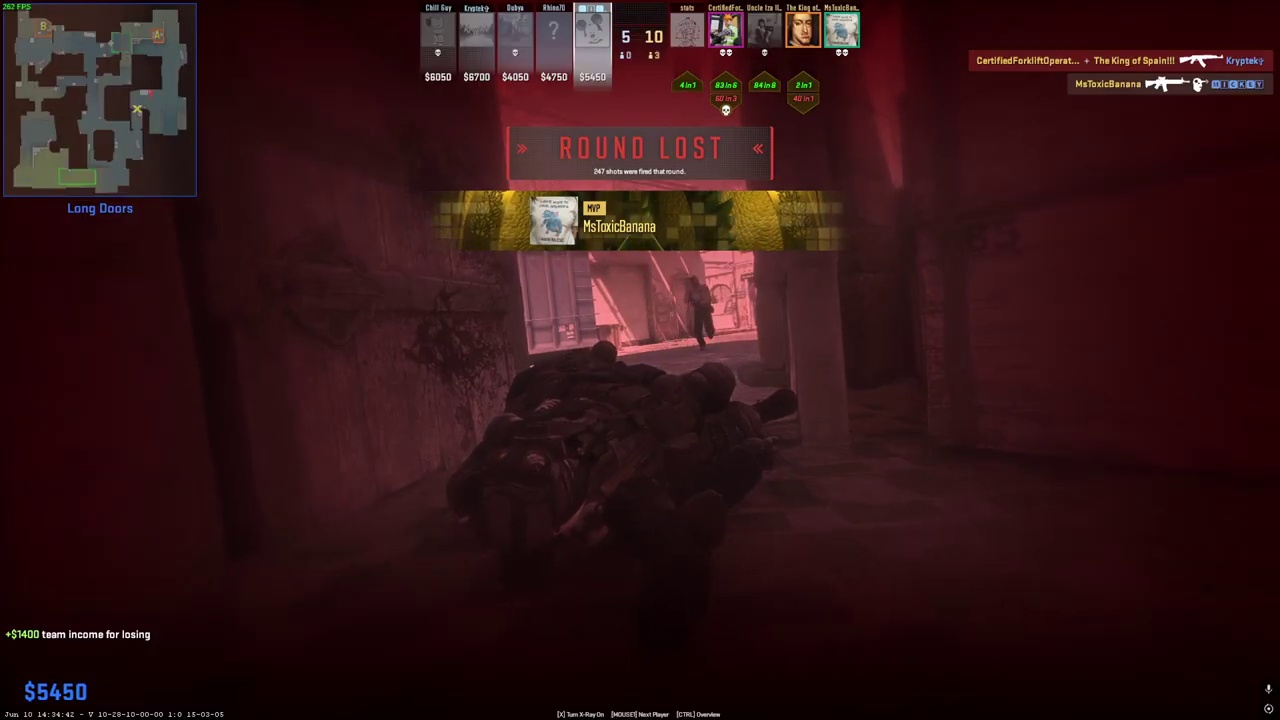Terrorist: (687, 278, 716, 350)
